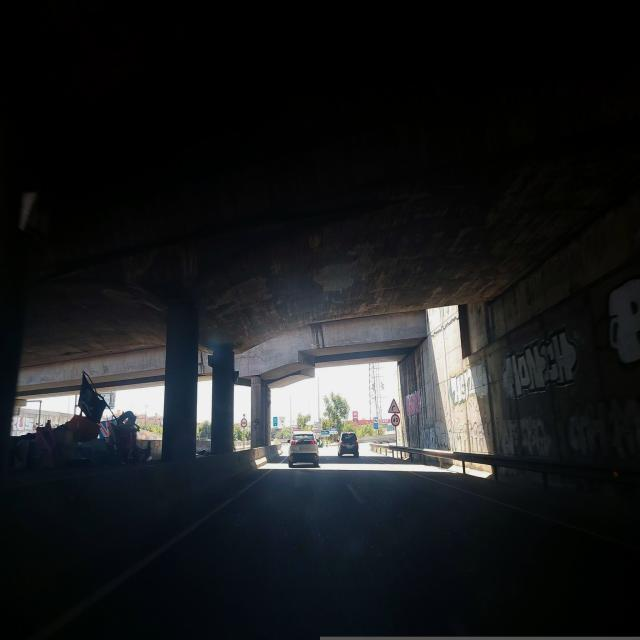car: (288, 431, 319, 468), (337, 432, 359, 457)
